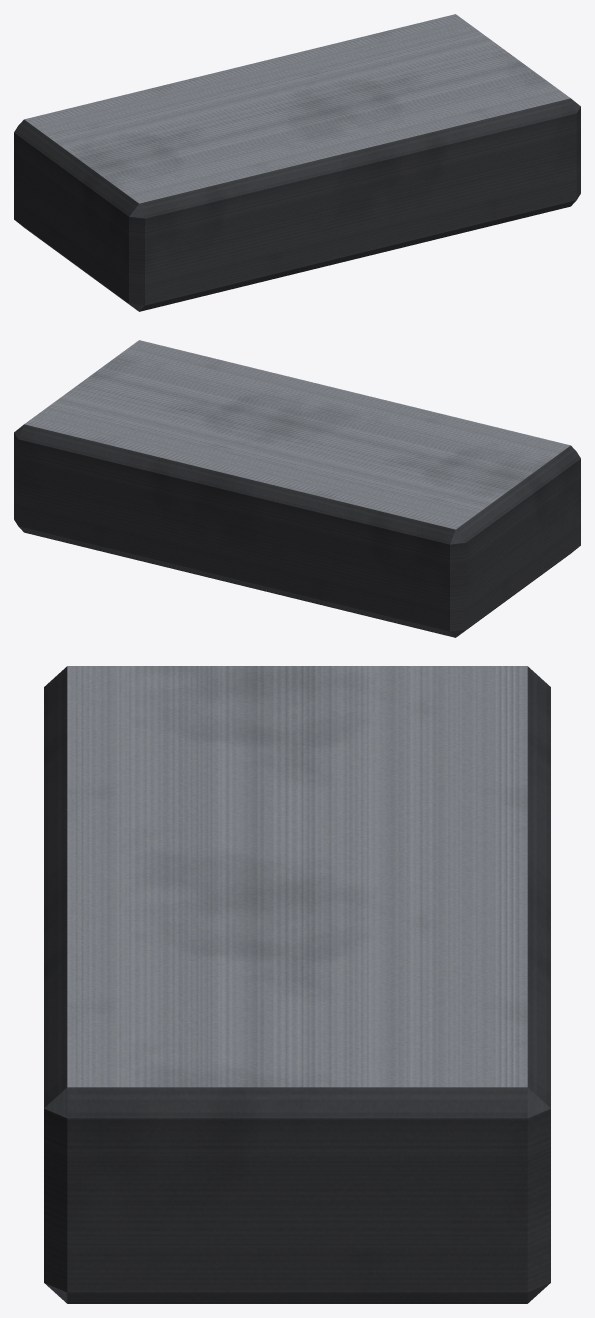
The model's file is R4B_Plate1x2_LOD1.glb.
The picture shows the model from 3 angles, top to bottom: view 1: azimuth 30°, elevation 25°; view 2: azimuth 150°, elevation 25°; view 3: azimuth 270°, elevation 25°; orthographic projection. The views are drawn at different scales.
Parts seen in each view (by area): view 1: R4B_Plate1x2_LOD1; view 2: R4B_Plate1x2_LOD1; view 3: R4B_Plate1x2_LOD1.
Part boxes in pixels (<box>): R4B_Plate1x2_LOD1: <box>14,14,580,311</box>; R4B_Plate1x2_LOD1: <box>14,340,580,637</box>; R4B_Plate1x2_LOD1: <box>44,666,550,1303</box>.
Size of the model in its own units: 1.07 by 0.245 by 0.52.
Materials: 2 (2 with a texture image).
